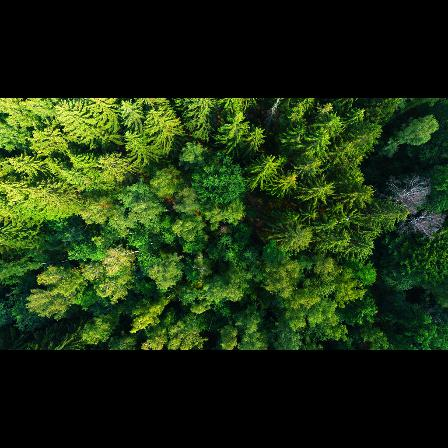Dead: (385, 176, 431, 210), (397, 212, 447, 240), (257, 99, 287, 140)
